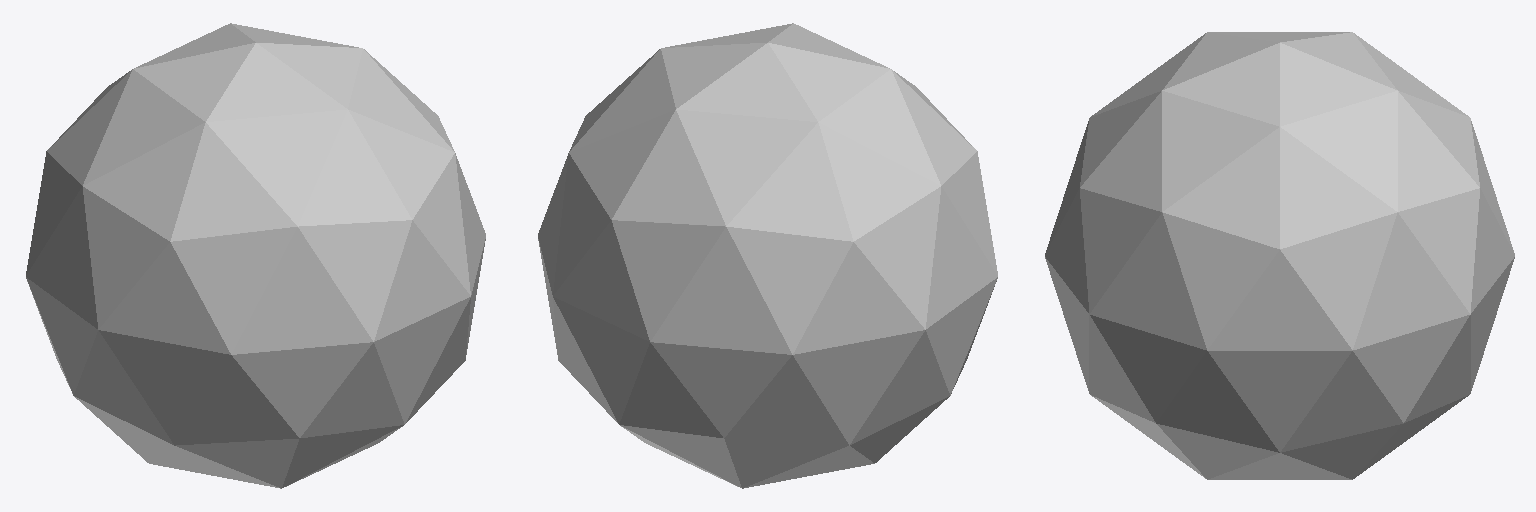
File: cam_collider.obj
3 views of the same model, side by side, from view 1: azimuth 30°, elevation 25°; view 2: azimuth 150°, elevation 25°; view 3: azimuth 270°, elevation 25° (orthographic).
Visible parts, largest first — view 1: Icosphere; view 2: Icosphere; view 3: Icosphere.
Boxes of the visible parts, box(x1,y1,x2,y2) form: Icosphere: box(26, 23, 485, 488); Icosphere: box(538, 23, 997, 488); Icosphere: box(1045, 32, 1514, 479).
Size of the model in its own units: 0.0951 by 0.1 by 0.1.